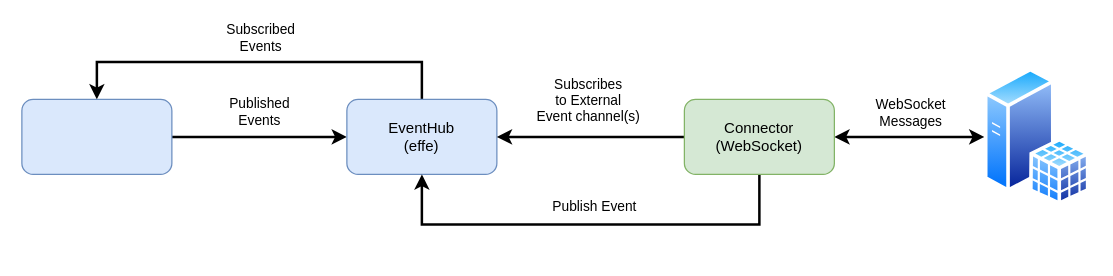
This 1113x276 diagram has some shape labels left out. Each missing label, with the centre of its shape:
"WebSocket Server" belongs at [1037,136].
"WebUI" belongs at [96,136].
